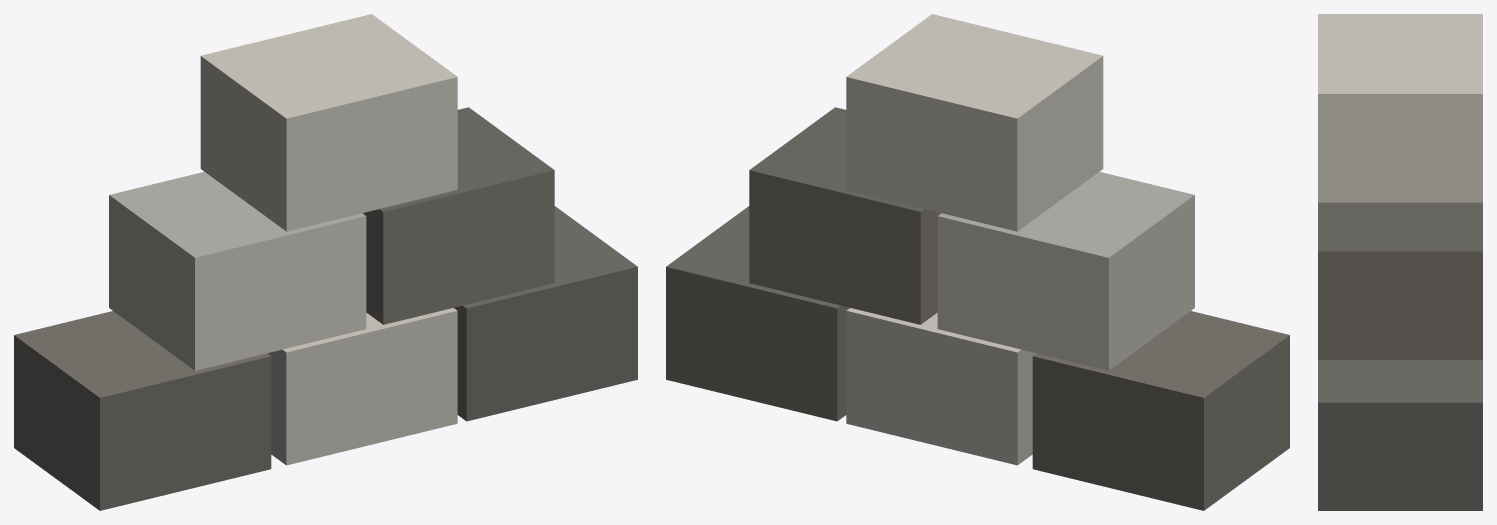
Rendered from walk_prop_stone_blocks.glb.
The picture shows the model from 3 angles, left to right: view 1: azimuth 30°, elevation 25°; view 2: azimuth 150°, elevation 25°; view 3: azimuth 270°, elevation 25°; orthographic projection. The views are drawn at different scales.
Visible parts, largest first — view 1: walk_prop_stone_blocks; view 2: walk_prop_stone_blocks; view 3: walk_prop_stone_blocks.
Part boxes in pixels (x1,y1,x2,y2): walk_prop_stone_blocks: (14,14,637,510); walk_prop_stone_blocks: (666,14,1289,510); walk_prop_stone_blocks: (1318,14,1482,510).
Size of what is drawn, in the model's own units: 2.89 by 1.78 by 0.8.
1 material, 1 textured.
